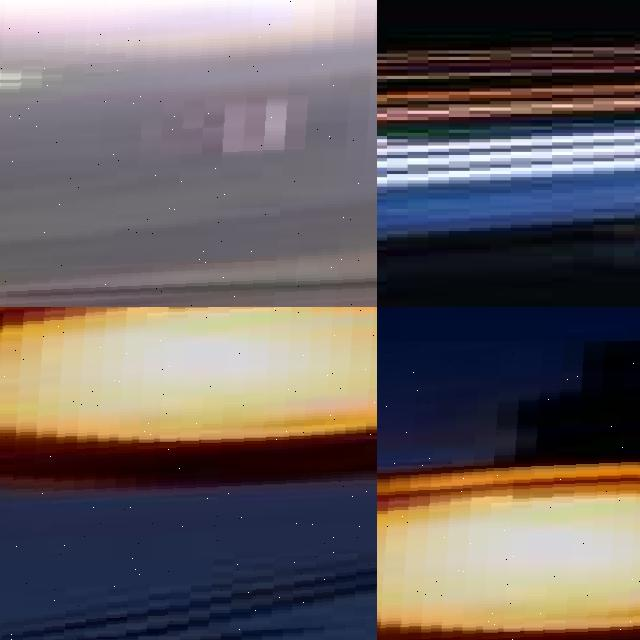street light: (0, 307, 377, 640), (0, 0, 377, 307), (377, 341, 640, 640)
